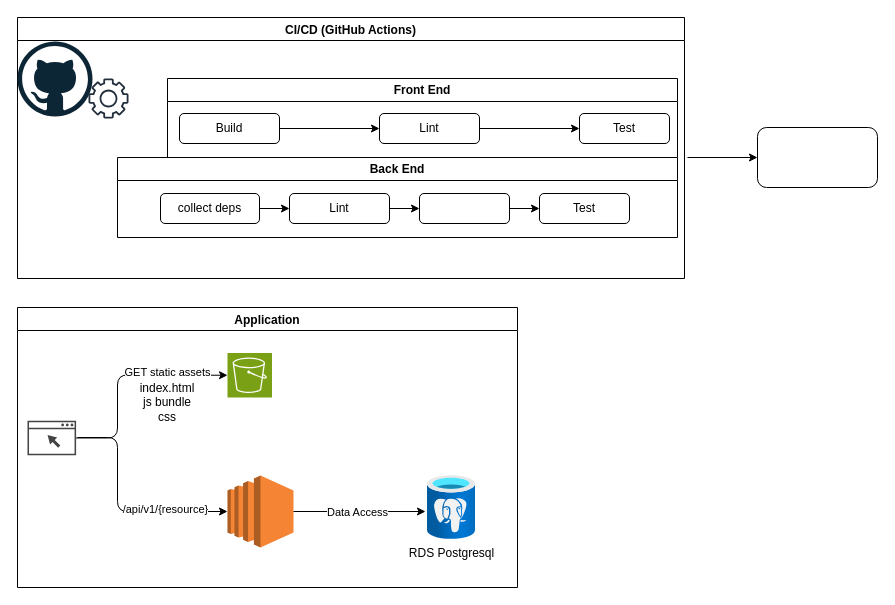
Some shapes in this 895 by 605 pixel diagram are drawn without their labels. Here are the shapes that lost their labels. From the top down, the centre of each, then its label:
the point at 817,157: Manual Deployment
the point at 464,208: Setup Postgres
the point at 249,375: S3 Web Hosting
the point at 51,437: React App
the point at 260,511: EC2 API (Python, FastAPI)
